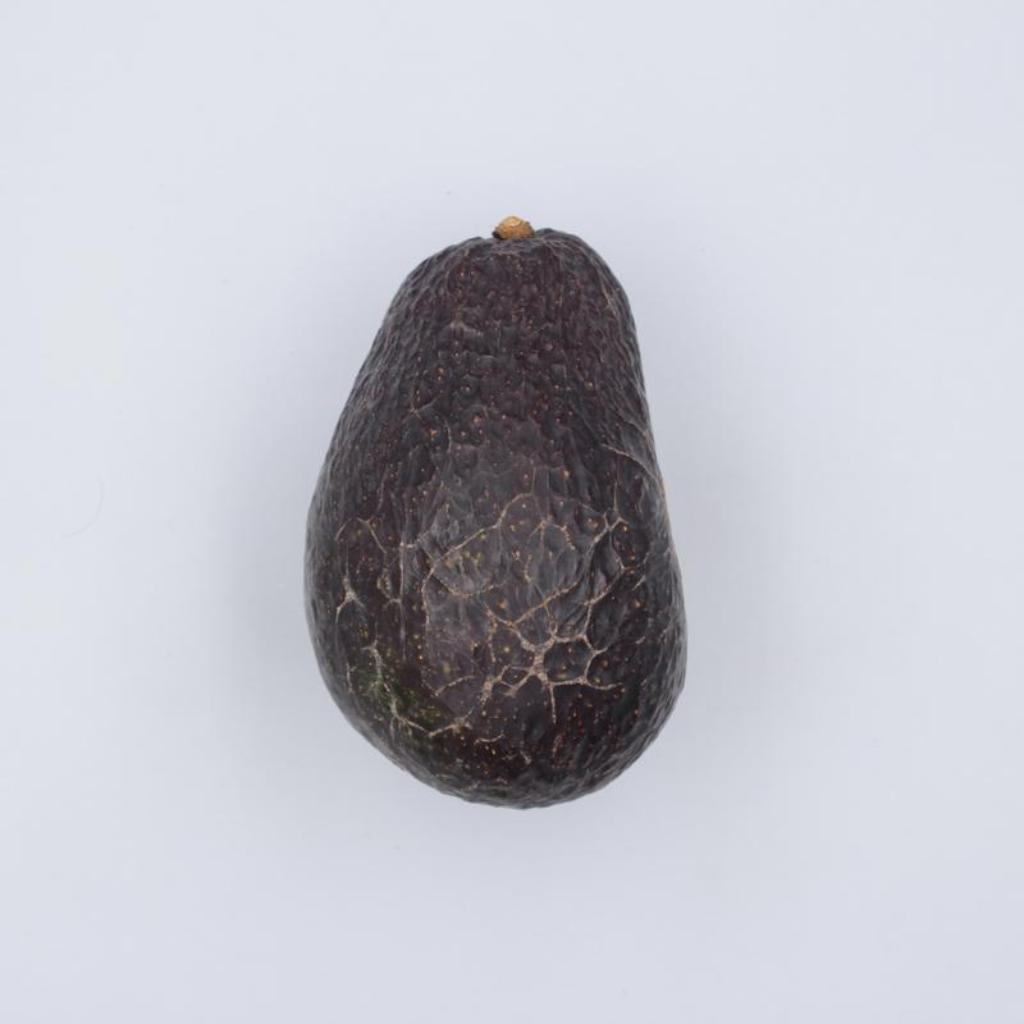scab: (306, 229, 685, 806)
